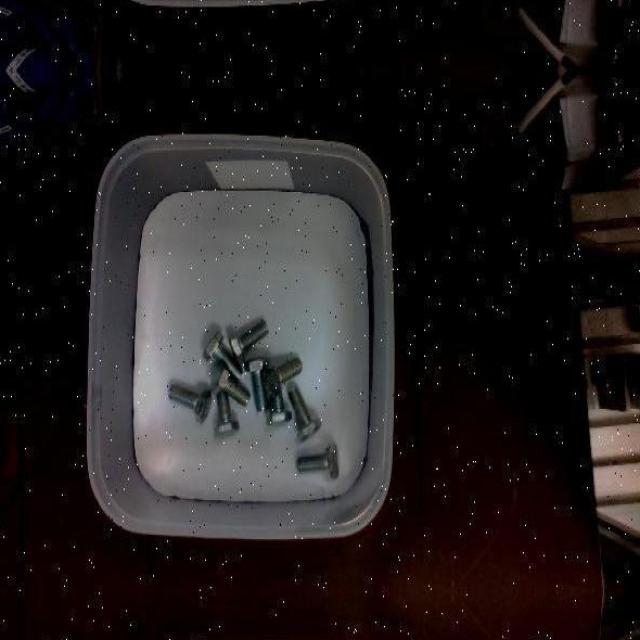screw: (289, 386, 322, 441), (169, 383, 213, 424), (229, 320, 269, 365), (210, 363, 250, 407), (262, 357, 302, 397), (297, 441, 340, 478)
